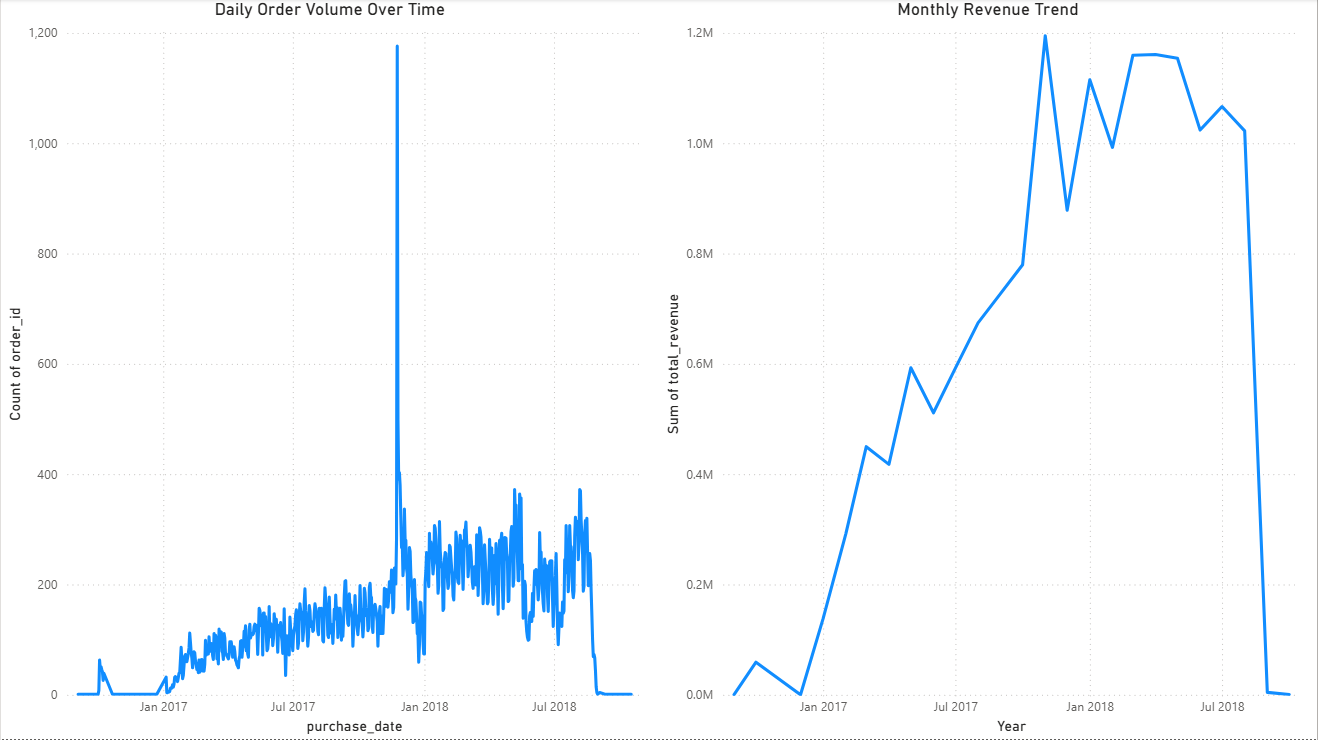

The page's visual inventory and layout, read from the dashboard file:
{"tool":"powerbi","page":{"name":"Trends Overview","canvas":[1280,720],"ordinal":0},"visuals":[{"type":"lineChart","title":"Daily Order Volume Over Time","fields":{"Y":["CountNonNull(public orders_basic.order_id)"],"Category":["public orders_basic.purchase_date"]},"box":[0,0,640,719.8],"z":0},{"type":"lineChart","title":"Monthly Revenue Trend","fields":{"Y":["Sum(public revenue_by_month.total_revenue)"],"Category":["public revenue_by_month.purchase_month.Variation.Date Hierarchy.Year","public revenue_by_month.purchase_month.Variation.Date Hierarchy.Month"]},"box":[640,0,640,719.8],"z":2000}]}

Visuals, with their boxes in screenshot pixels (x1, y1, x2, y2), scaled from the page's 1280x720 canvas onto the 1318x740 screenshot:
"Daily Order Volume Over Time" lineChart: (0, 0, 659, 739)
"Monthly Revenue Trend" lineChart: (659, 0, 1317, 739)
